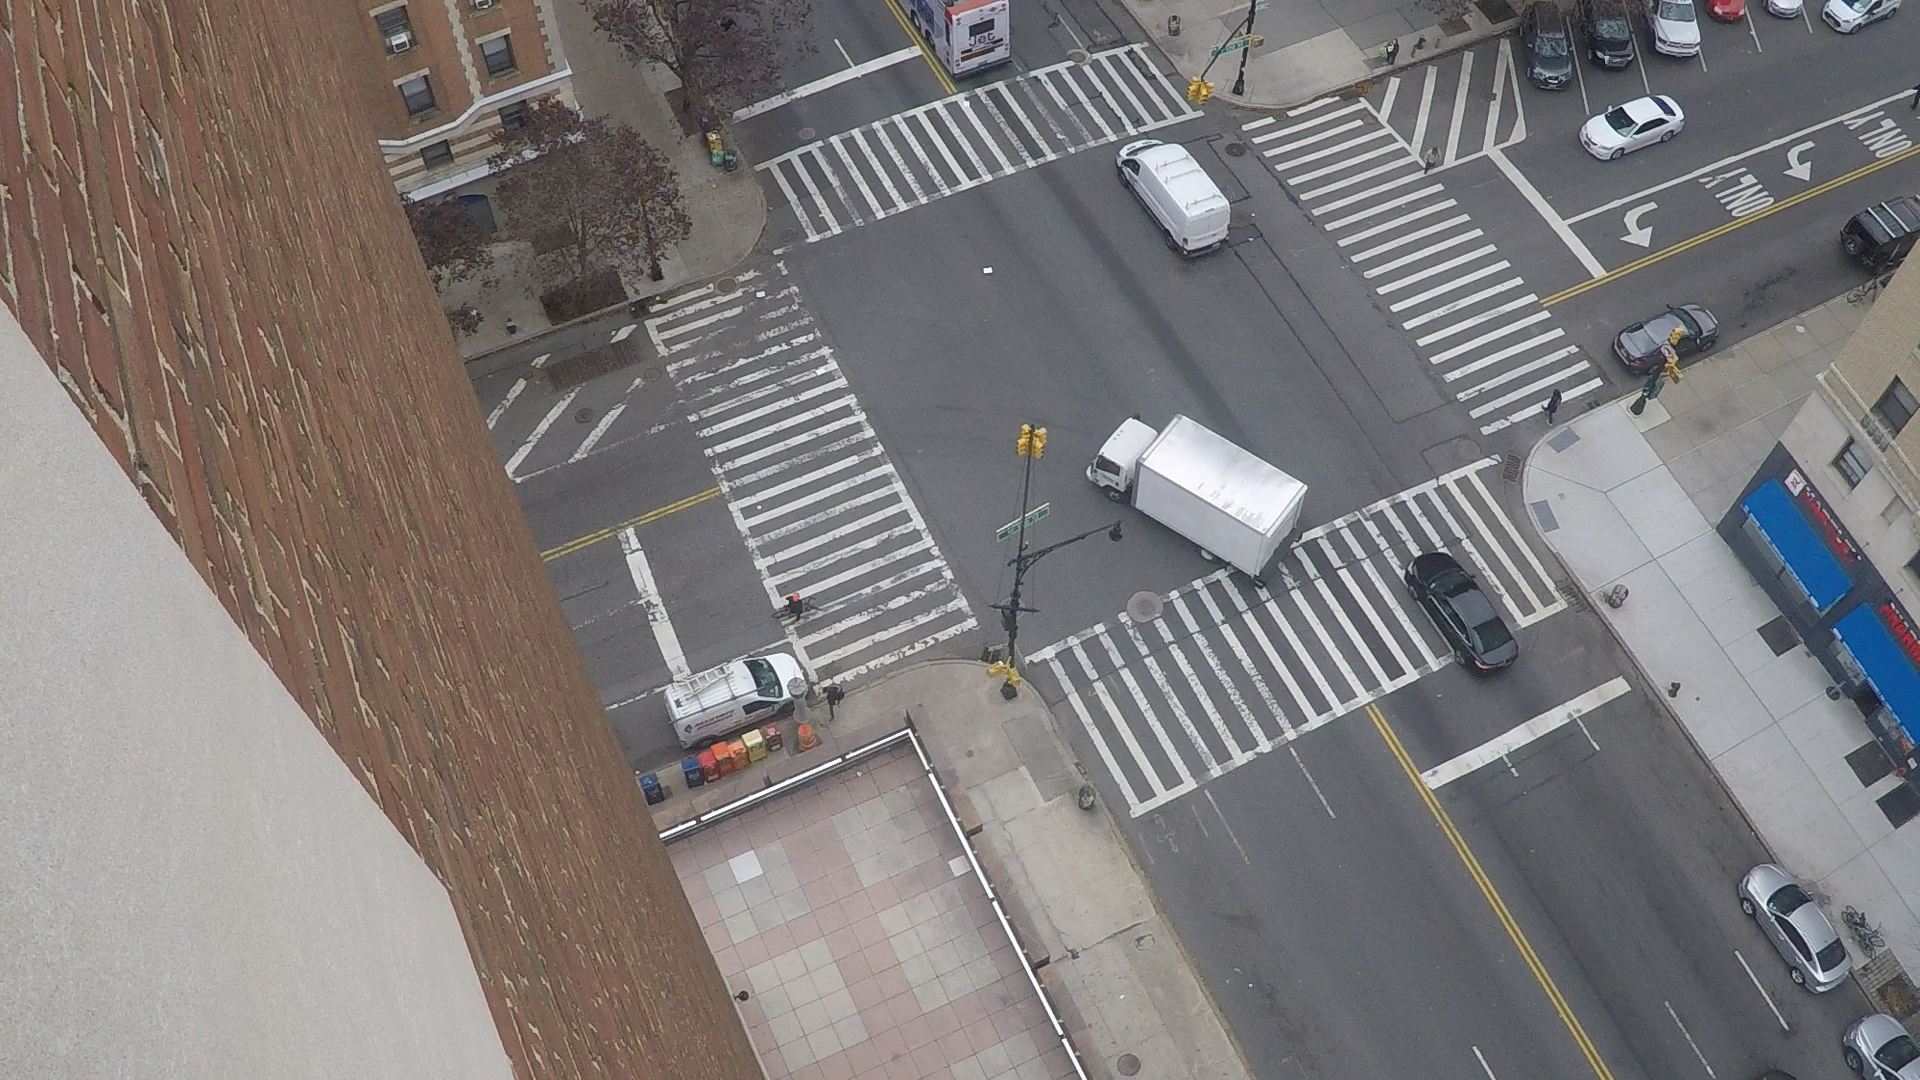Bus: (895, 0, 956, 79)
Car: (1635, 0, 1636, 18), (1760, 0, 1762, 8)
Truck: (1104, 496, 1116, 504)
